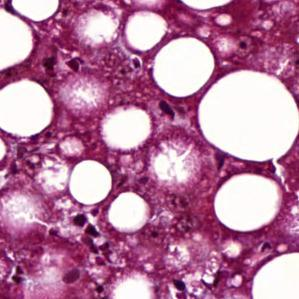steatosis: (197, 61, 299, 162), (214, 173, 283, 233), (152, 37, 218, 99), (69, 156, 116, 207)
